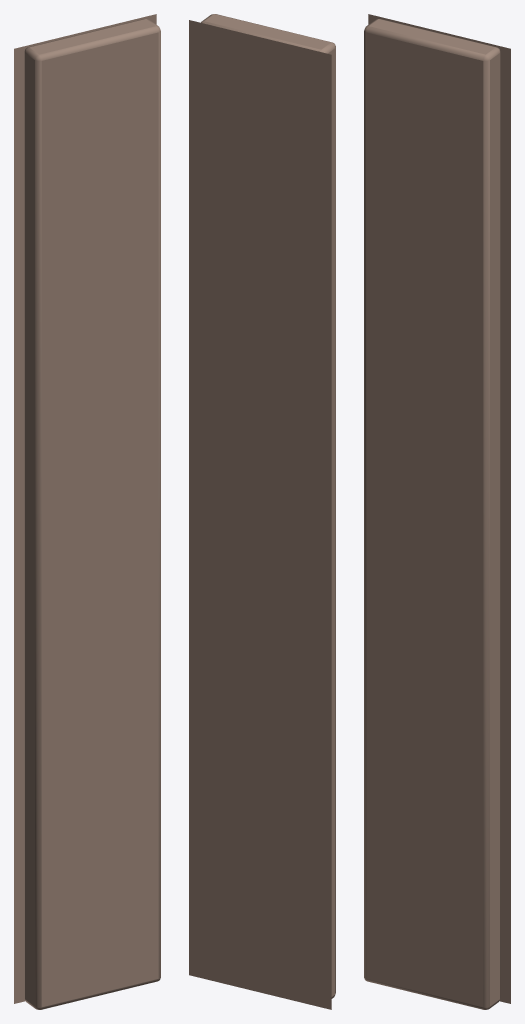
File: filler_pilaster_u_05.glb
3 views of the same model, side by side, from view 1: azimuth 30°, elevation 25°; view 2: azimuth 150°, elevation 25°; view 3: azimuth 330°, elevation 25° (orthographic).
Parts seen in each view (by area): view 1: filler_pilaster_u_05; view 2: filler_pilaster_u_05; view 3: filler_pilaster_u_05.
Boxes of the visible parts, x1,y1,x2,y2 form: filler_pilaster_u_05: (14,14,160,1009); filler_pilaster_u_05: (189,14,335,1009); filler_pilaster_u_05: (364,14,510,1009).
Bounding box in the file's own units: 0.5 × 3.2 × 0.09.
